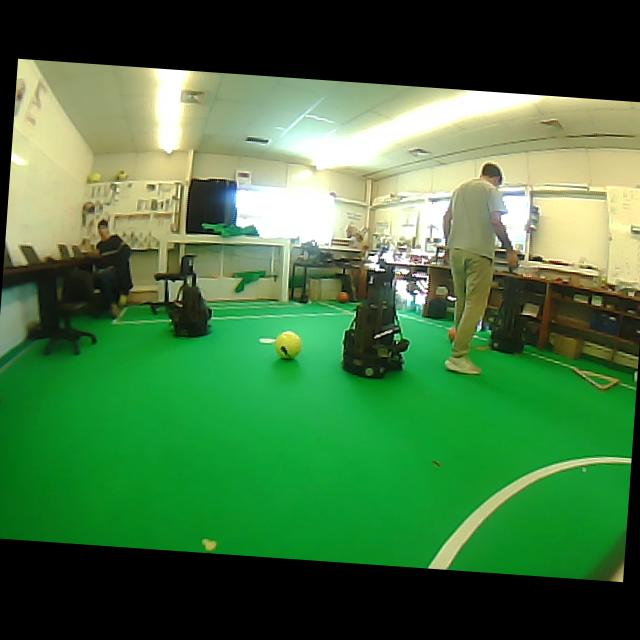ball: (274, 330, 301, 359), (87, 172, 102, 182), (114, 169, 127, 180), (336, 291, 349, 302)
goal: (279, 238, 290, 302)
robot: (341, 270, 409, 377), (166, 254, 210, 336), (491, 298, 524, 352)
